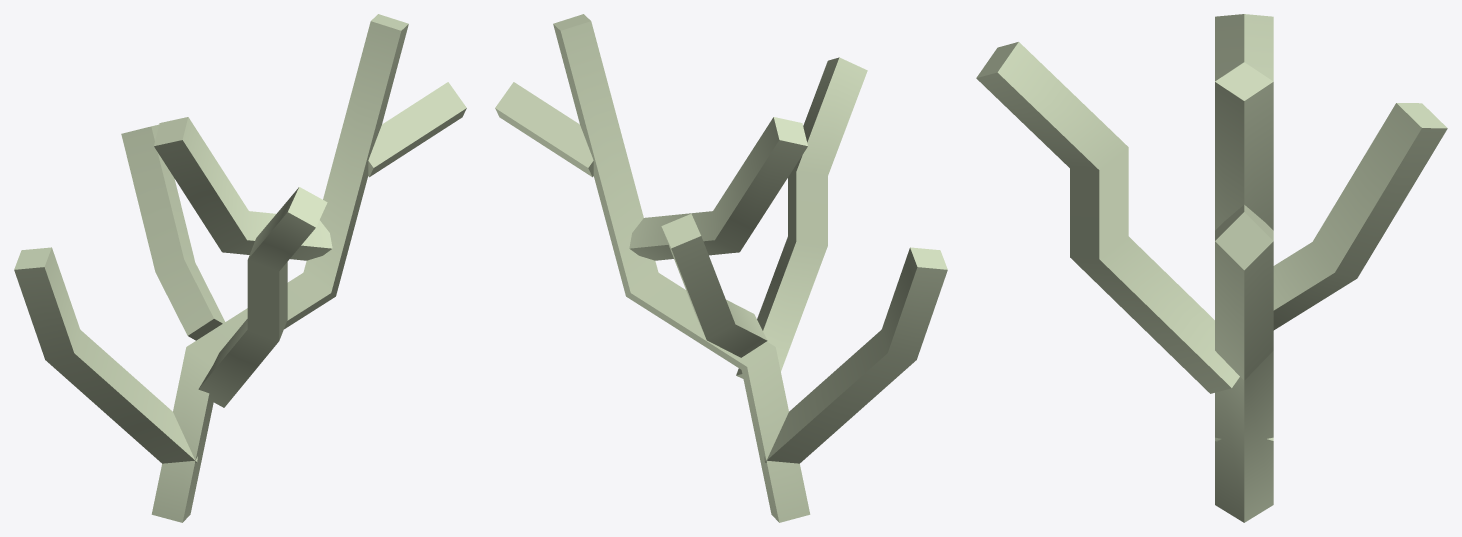
The model's file is PL002_PlantB02.FBX.
3 renders of one model, left to right at view 1: azimuth 30°, elevation 25°; view 2: azimuth 150°, elevation 25°; view 3: azimuth 270°, elevation 25°, orthographic. The views are drawn at different scales.
Visible parts, largest first — view 1: PL002_PlantB02; view 2: PL002_PlantB02; view 3: PL002_PlantB02.
Boxes of the visible parts, box(x1,y1,x2,y2) form: PL002_PlantB02: box(14, 14, 466, 522); PL002_PlantB02: box(495, 14, 947, 522); PL002_PlantB02: box(976, 14, 1447, 522).
Size of the model in its own units: 134 by 128 by 95.72.
1 material, 1 textured.
